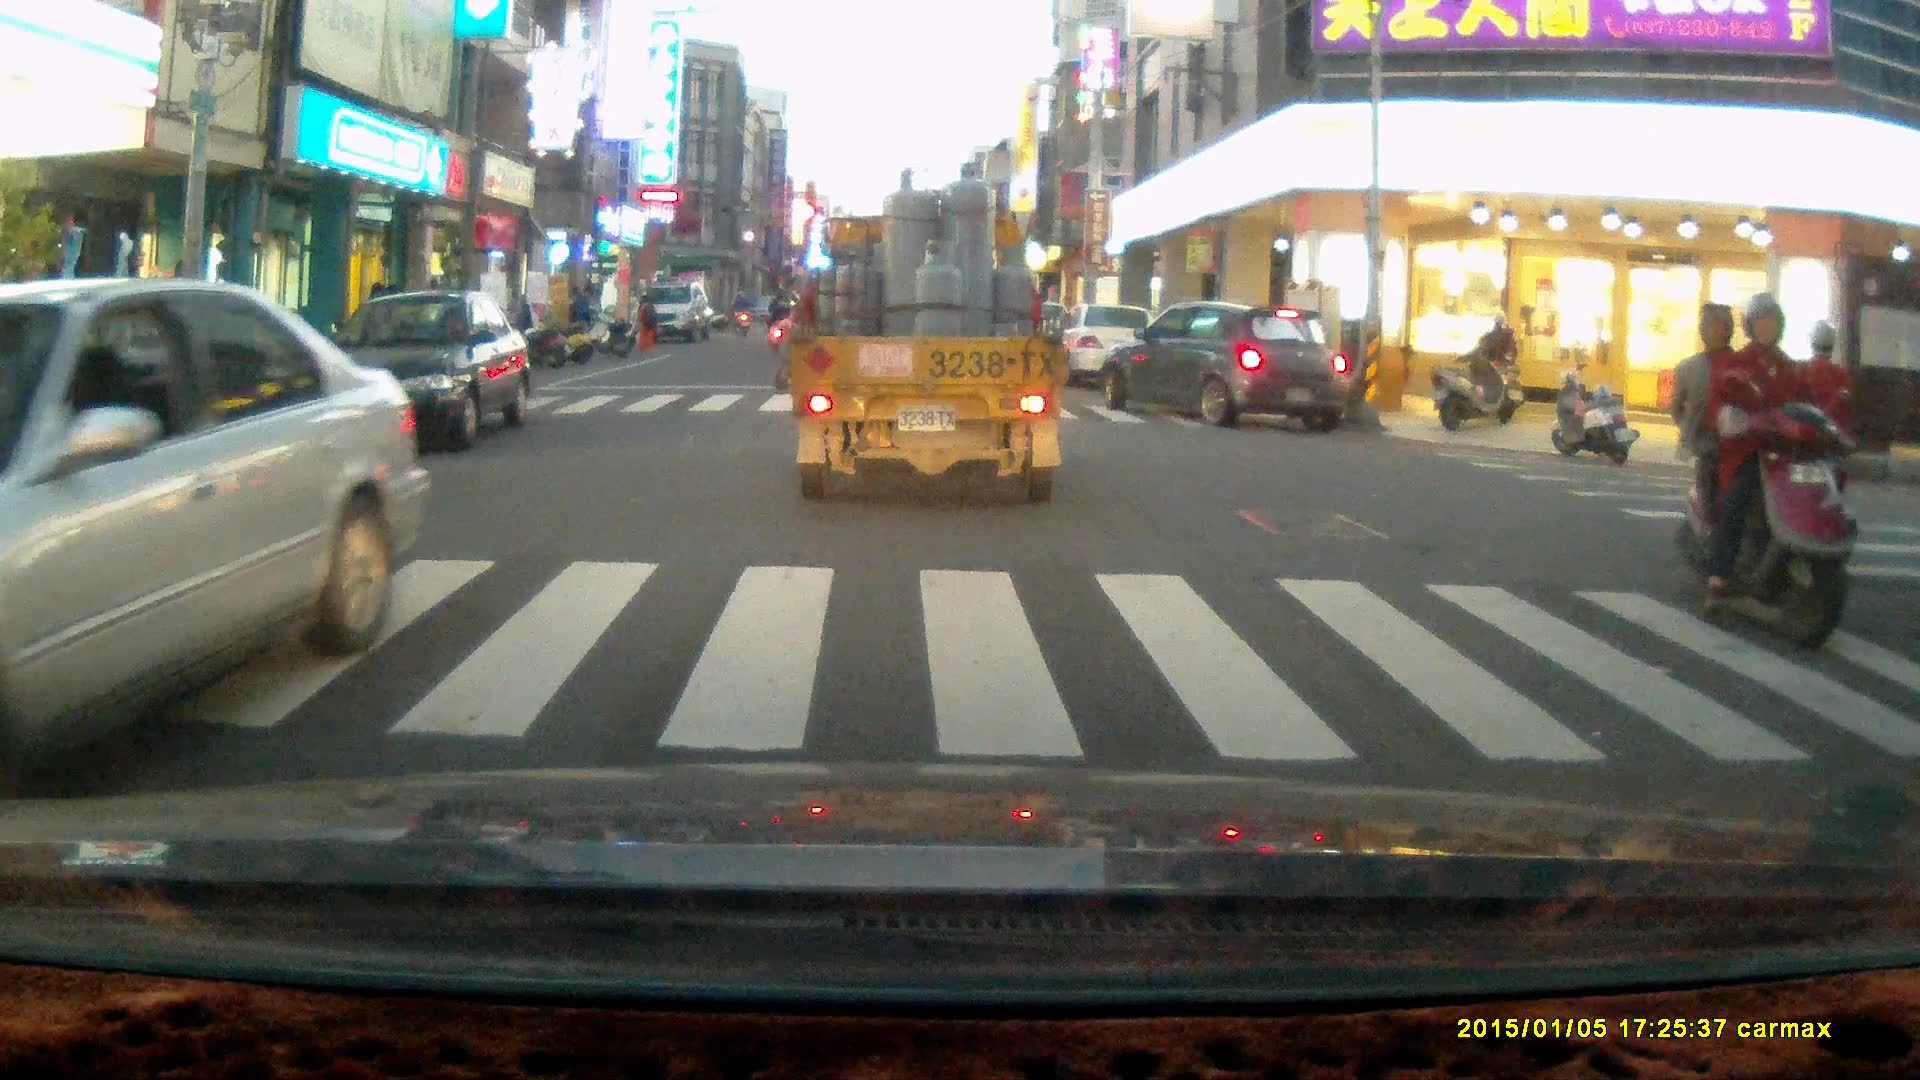pedestrian: (565, 284, 594, 350), (630, 294, 654, 354)
rider: (1665, 292, 1856, 656), (1464, 308, 1524, 426)
vehicle: (1, 277, 432, 792), (789, 159, 1075, 504), (1101, 303, 1347, 431), (1047, 306, 1171, 394), (631, 280, 706, 340)
